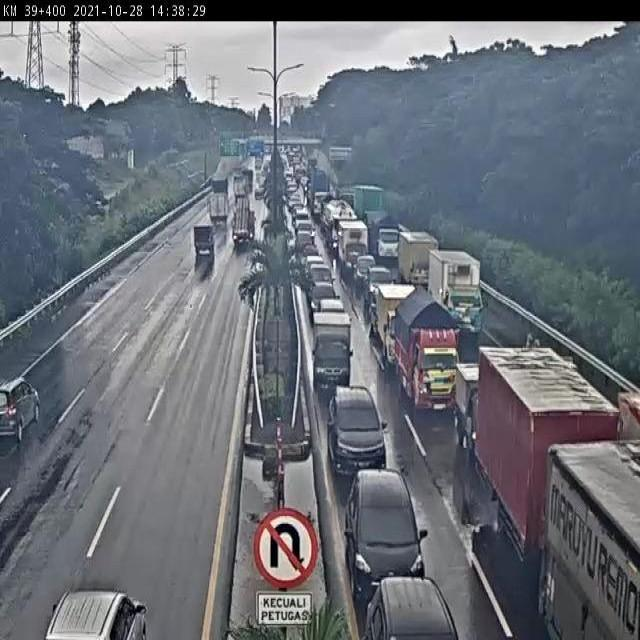car: (348, 468, 422, 580), (359, 575, 463, 640), (36, 587, 152, 640), (329, 386, 390, 476), (312, 337, 351, 402), (309, 281, 337, 312), (357, 260, 391, 284), (307, 263, 332, 294), (293, 209, 316, 237), (295, 222, 318, 249), (368, 266, 391, 286), (357, 255, 375, 279), (288, 195, 309, 214)
truck: (465, 339, 638, 640), (428, 248, 482, 314), (0, 375, 40, 452), (193, 225, 214, 281)
